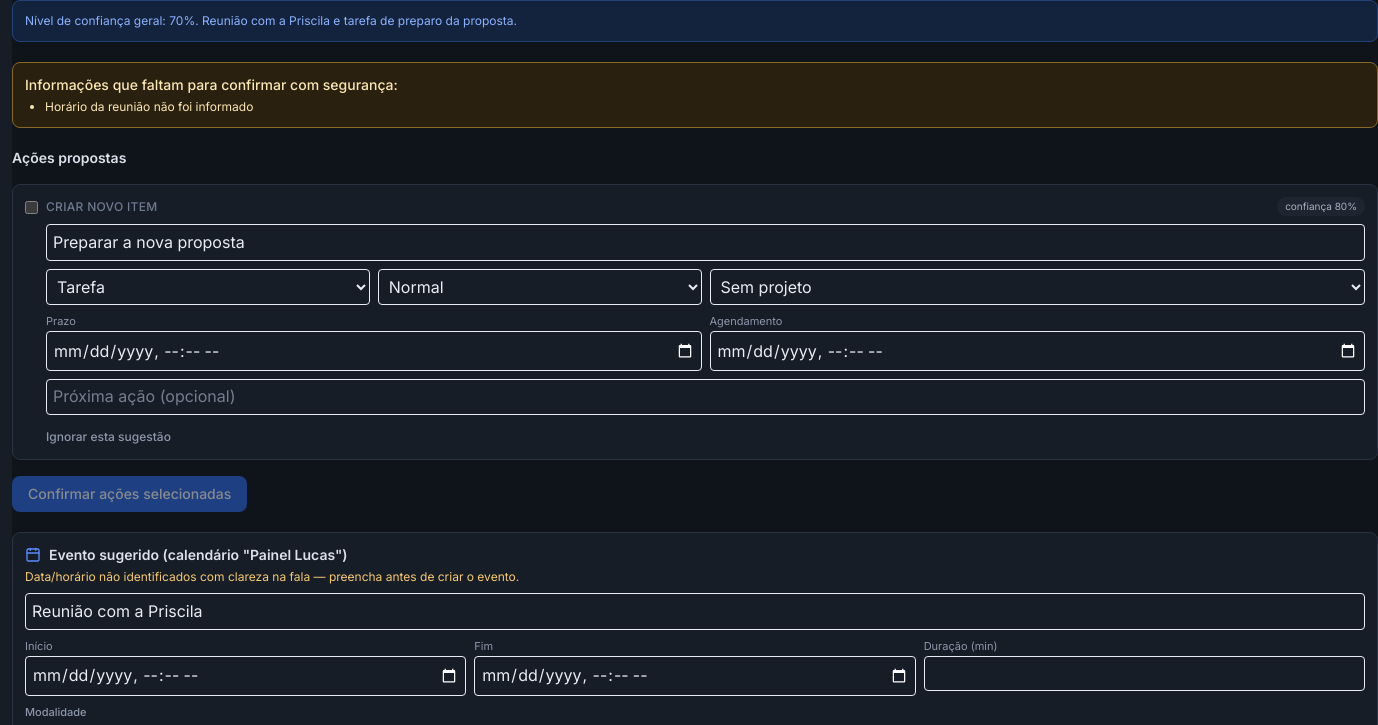
Scenario: AudioCaptureReview — validação de intervalo do evento › término igual ao início também é inválido
Type "2026-08-05T10:00" into the field labelled "Início" at {"x": 246, "y": 676}, box [25,656,466,696]
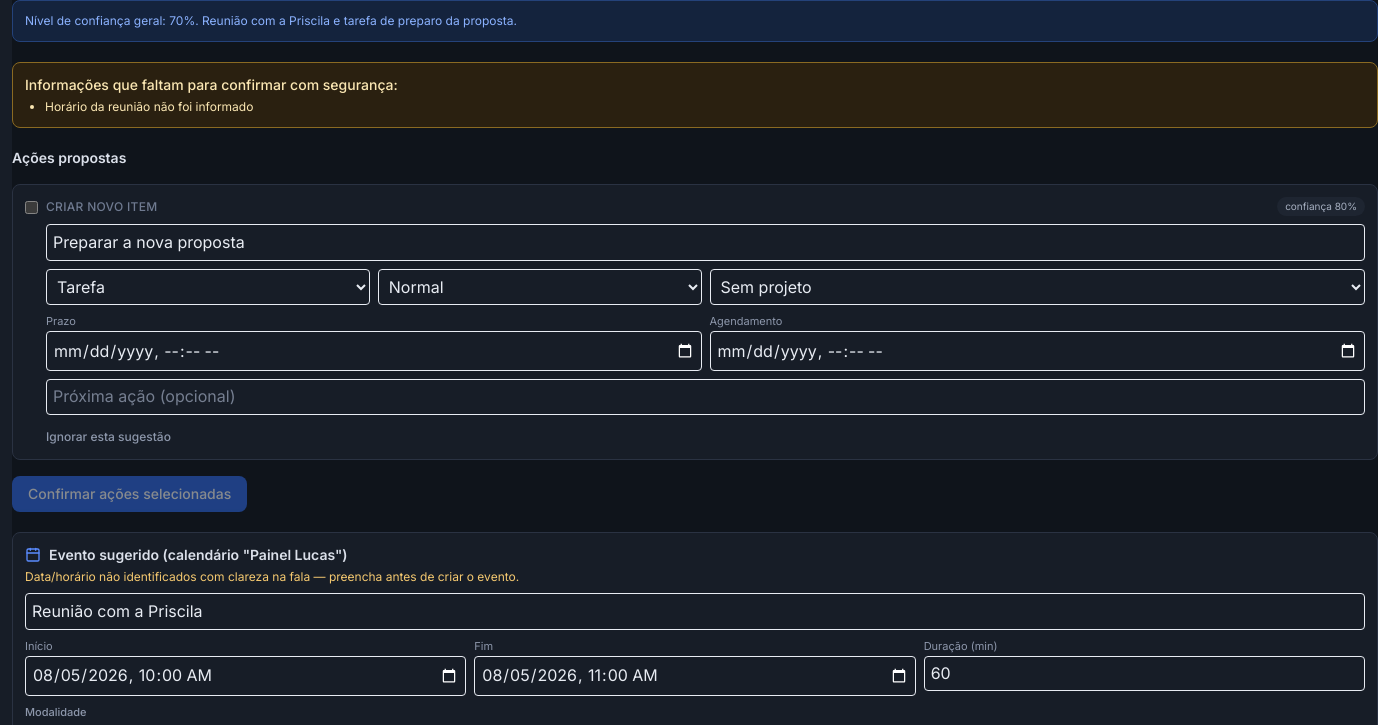
Replace the text in the field labelled "Fim" with "2026-08-05T10:00" at {"x": 695, "y": 676}, box [474,656,916,696]
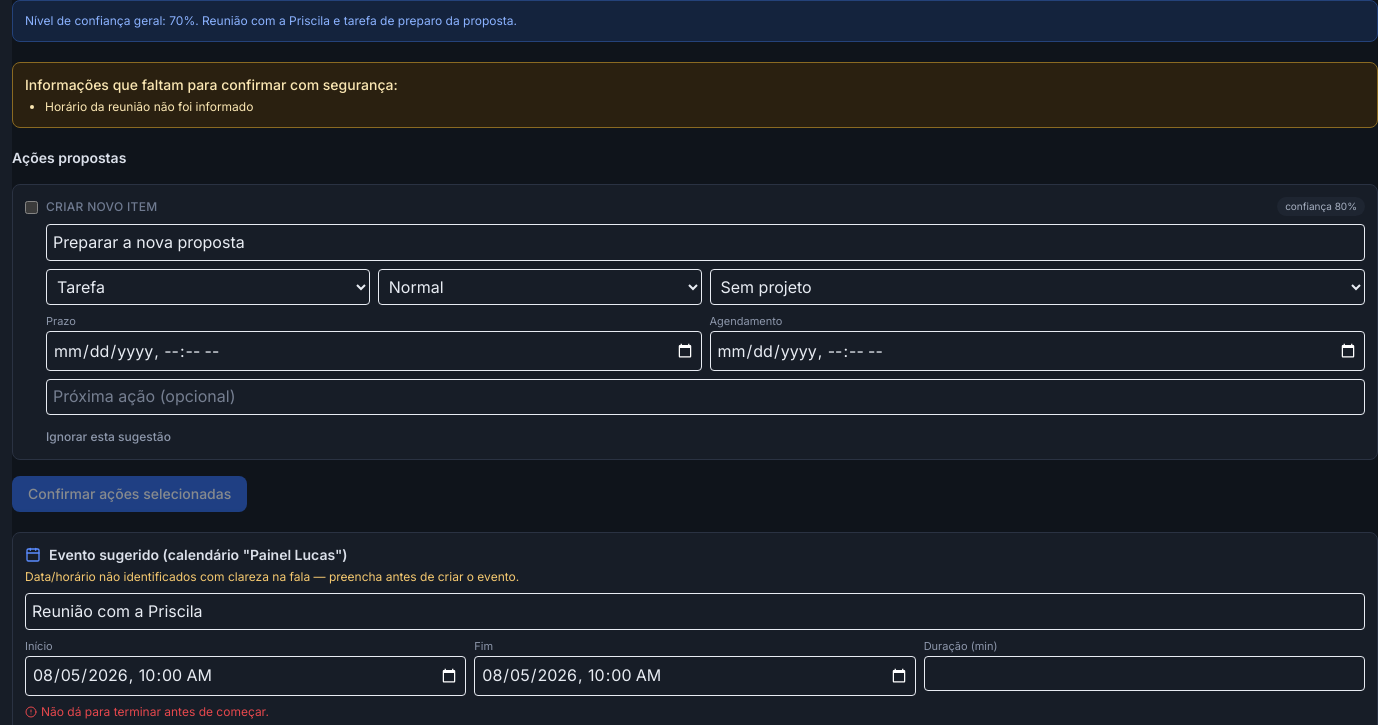
Expected: the text "Não dá para terminar antes de começar." is shown, [25,704,269,719]
